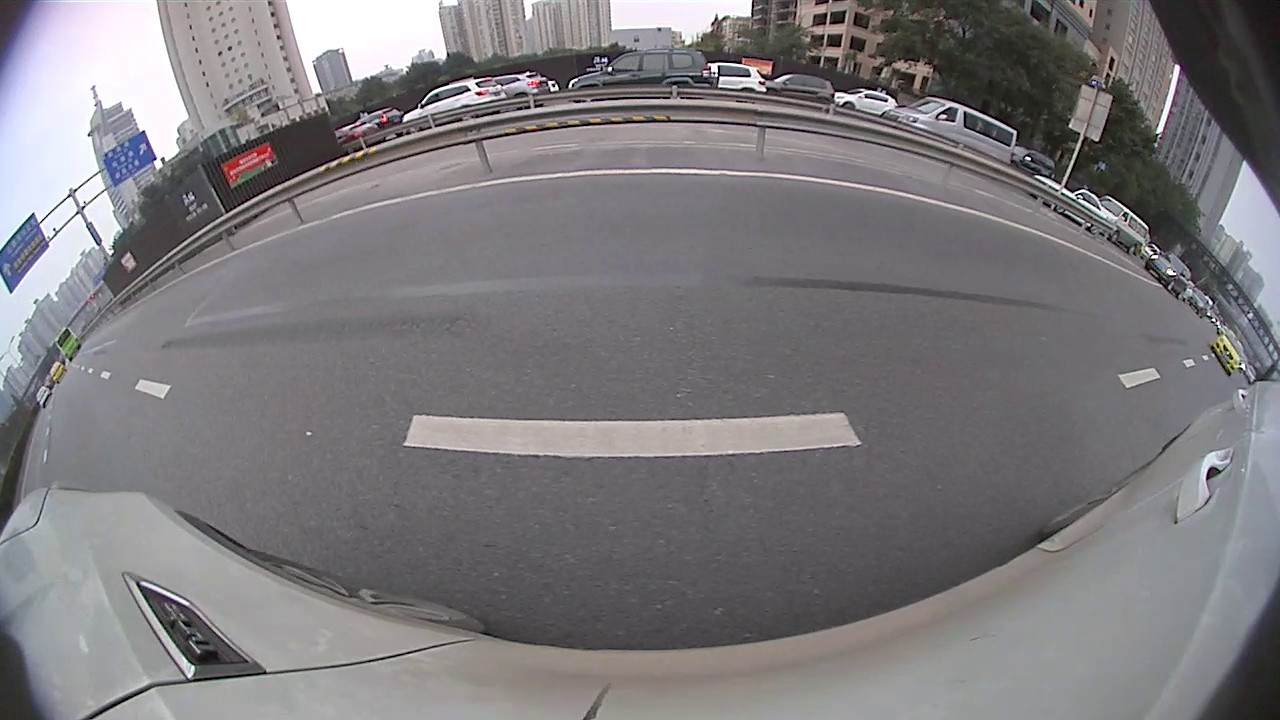car: (881, 96, 1015, 168), (571, 48, 720, 95), (402, 76, 509, 120), (1092, 195, 1149, 257), (698, 61, 767, 97), (761, 73, 834, 107), (1144, 253, 1192, 302), (835, 88, 900, 119), (1210, 331, 1245, 379)
front: (1110, 231, 1120, 242)
rear: (1127, 243, 1134, 255)
